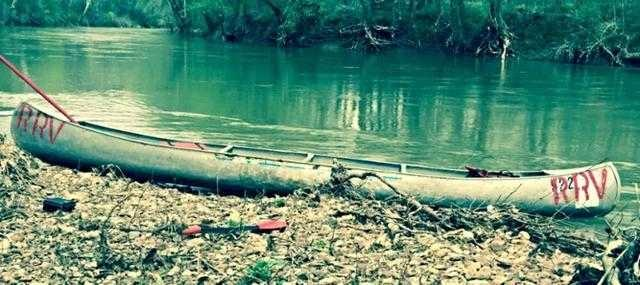kayak: (7, 105, 634, 218)
